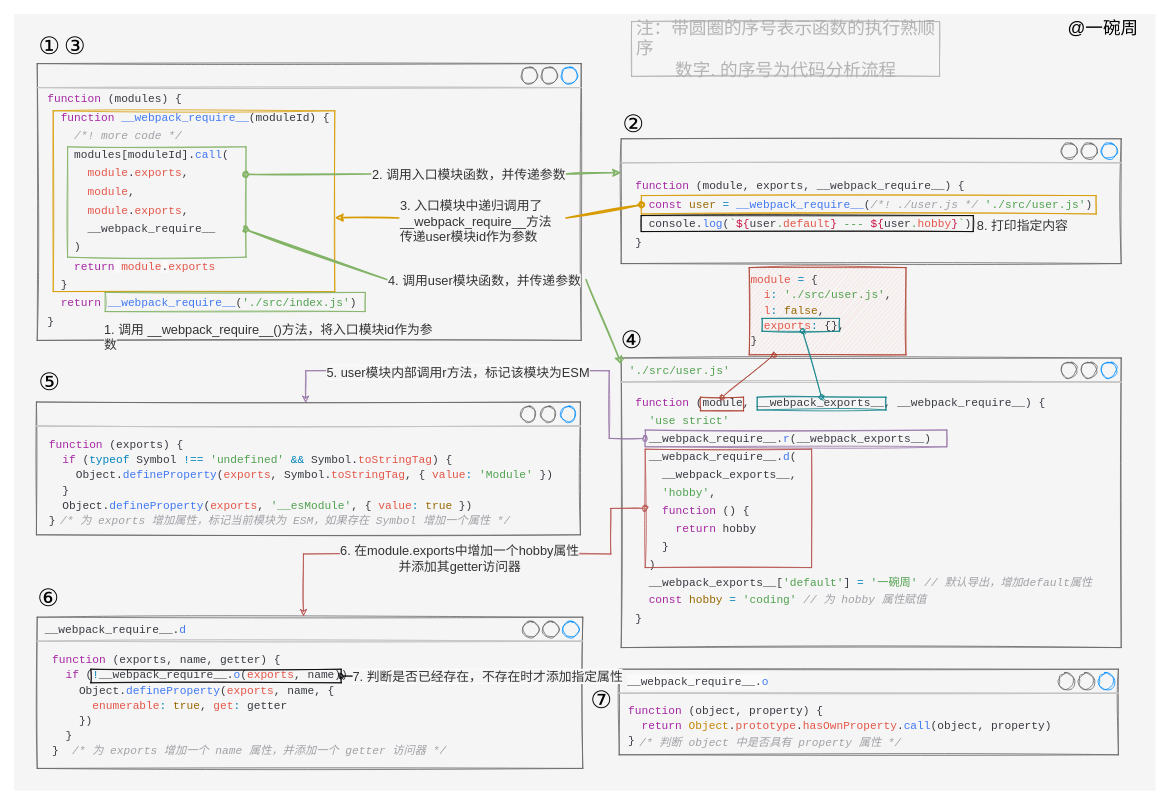
The diagram is 1169 pixels wide and 804 high, and some of its shapes have lost their labels. Each missing label, with the box of its shape:
'./src/index.js': (621, 138, 1121, 263)
__webpack_require__. r: (36, 402, 580, 534)
自执行函数核心代码: (37, 63, 581, 340)
